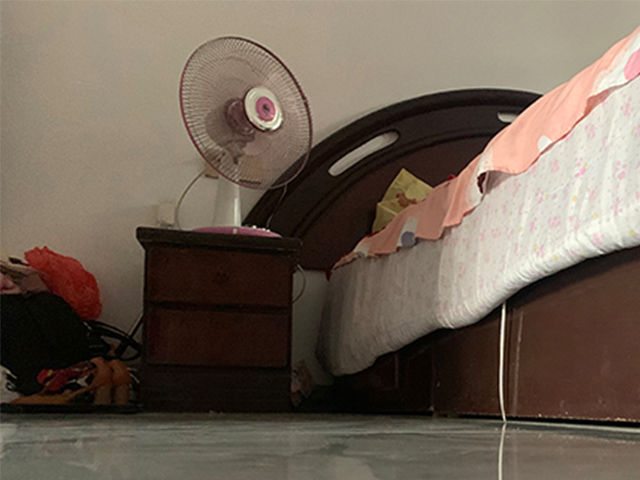bed: (240, 24, 640, 423)
cabinet: (135, 225, 304, 413)
wire: (169, 170, 208, 228)
